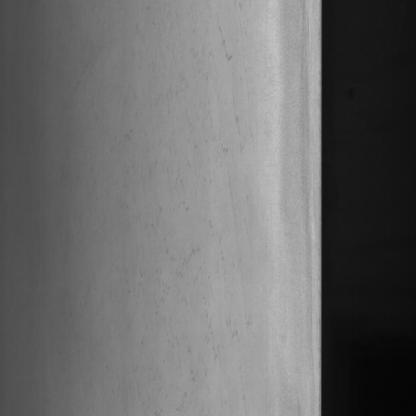silk_spot: (158, 6, 248, 326)
